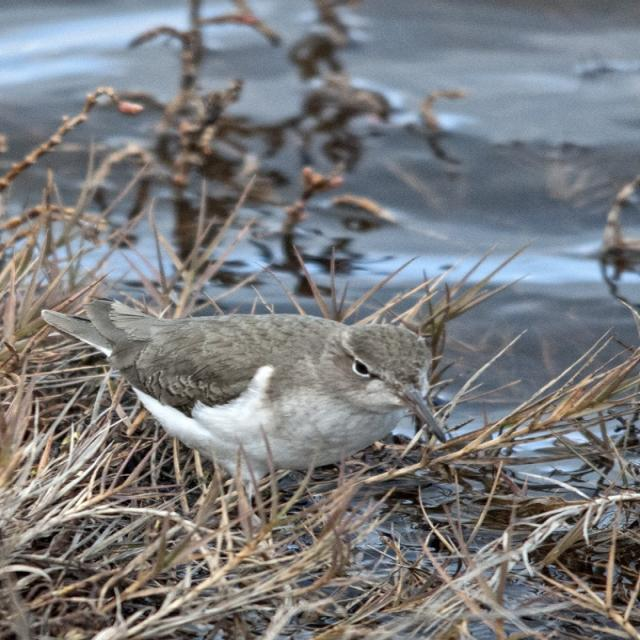bird: (16, 284, 454, 514)
